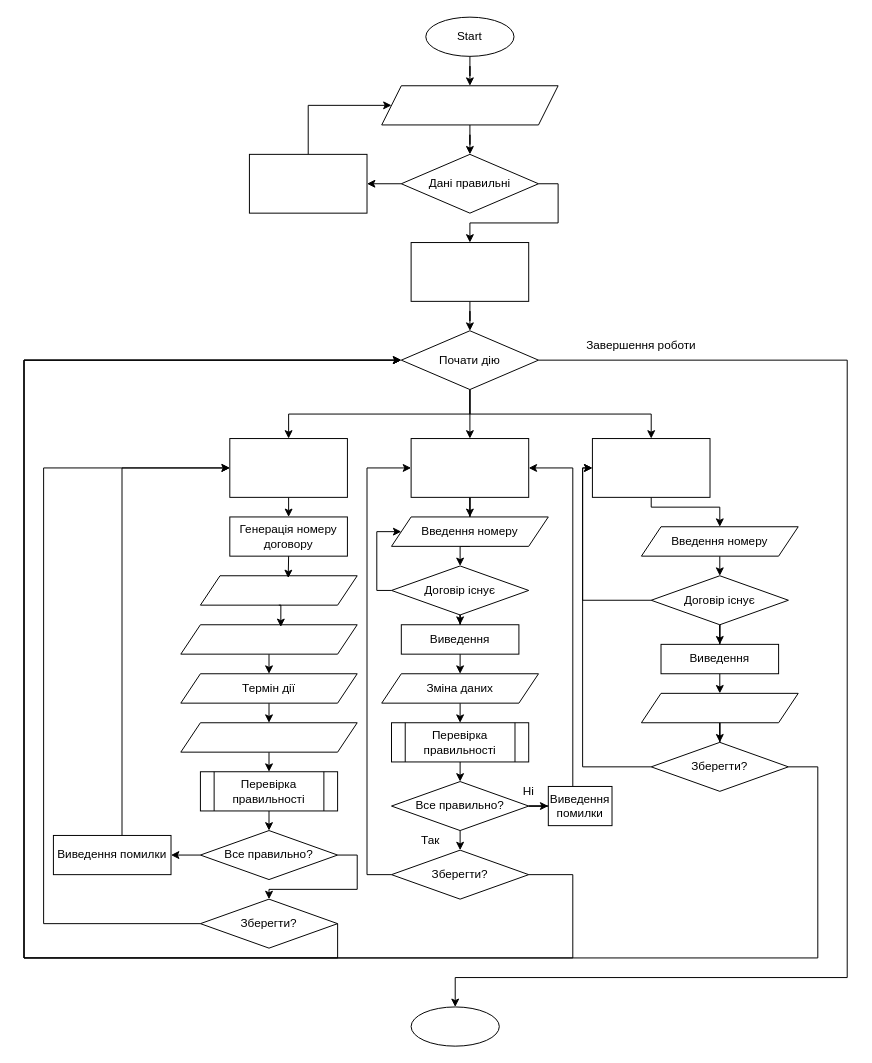
Image size: 872x1063. Some labels were removed from this diagram. Each missing label, with the box of its shape:
End: (410, 1006, 499, 1046)
Ввести логін і пароль: (381, 85, 558, 125)
Вибір формату: (640, 692, 798, 723)
Вивести повідомлення, що дані неправильні: (248, 153, 367, 213)
Дата укладання: (180, 624, 357, 654)
Назва об'єкту: (199, 575, 357, 605)
Оновлення договору: (410, 438, 529, 497)
Оформлення звітів: (591, 438, 710, 497)
Провести авторизацію & аутентифікацію: (410, 242, 529, 301)
Реєстрація договору: (229, 438, 347, 497)
Умови, додаткові файли: (180, 722, 357, 752)
